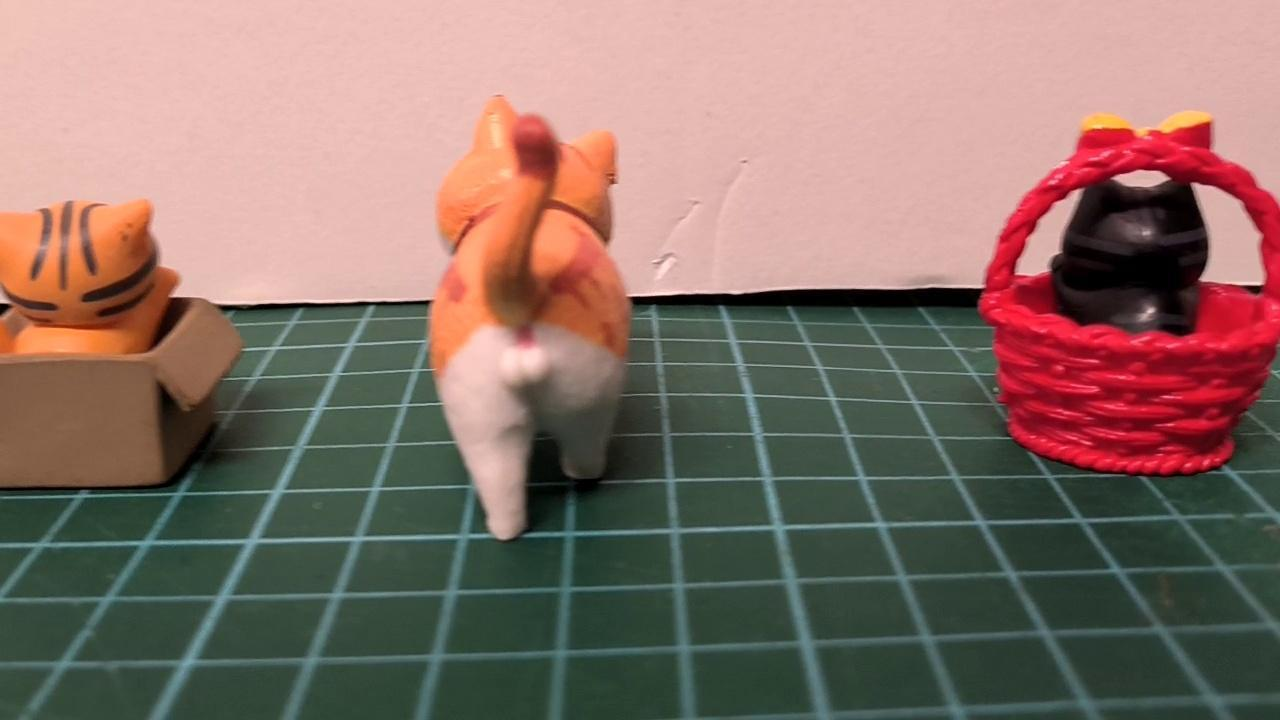pet: (424, 84, 637, 549), (1049, 167, 1211, 337)
